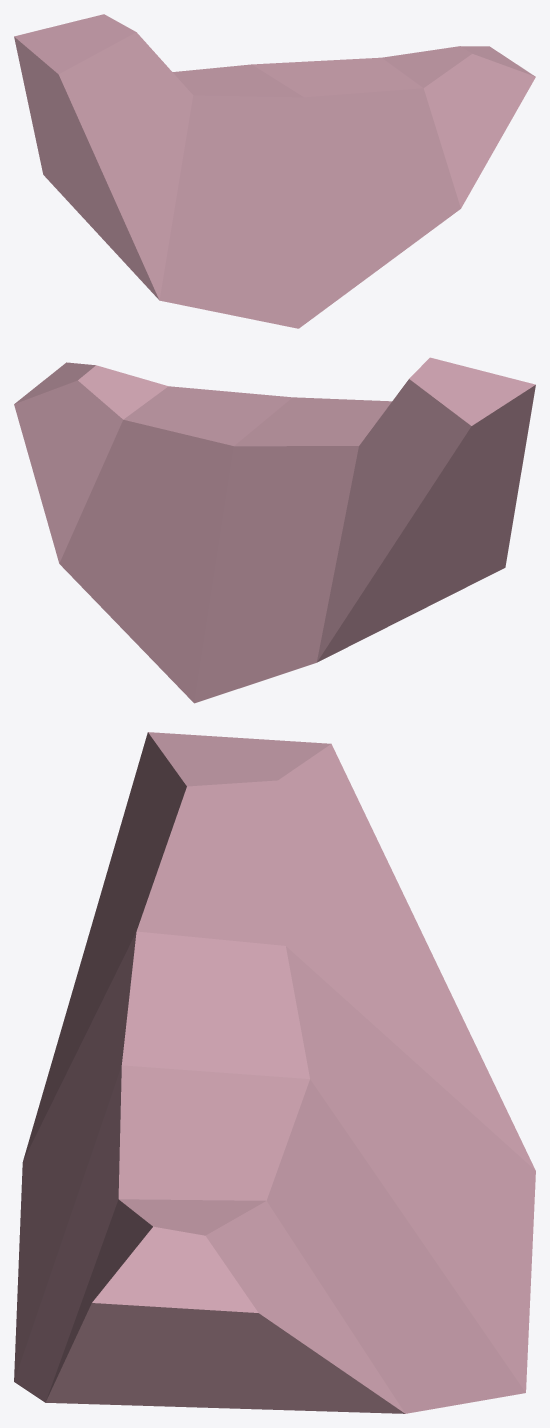
Rendered from garlicCloveNoSkin.fbx.
3 views of the same model, one above another, from view 1: azimuth 30°, elevation 25°; view 2: azimuth 150°, elevation 25°; view 3: azimuth 270°, elevation 25° (orthographic). The views are drawn at different scales.
Parts seen in each view (by area): view 1: garlicCloveNoSkin; view 2: garlicCloveNoSkin; view 3: garlicCloveNoSkin.
Part boxes in pixels (box(x1,y1,x2,y2)): garlicCloveNoSkin: box(14, 14, 535, 328); garlicCloveNoSkin: box(14, 357, 535, 703); garlicCloveNoSkin: box(14, 732, 535, 1413).
Bounding box in the file's own units: 2.91 × 1.73 × 1.63.
1 material, 1 textured.
